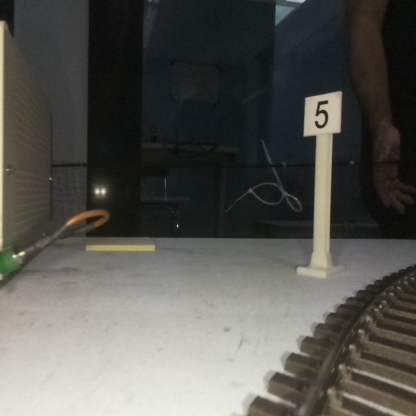white-info-5: (304, 92, 341, 274)
